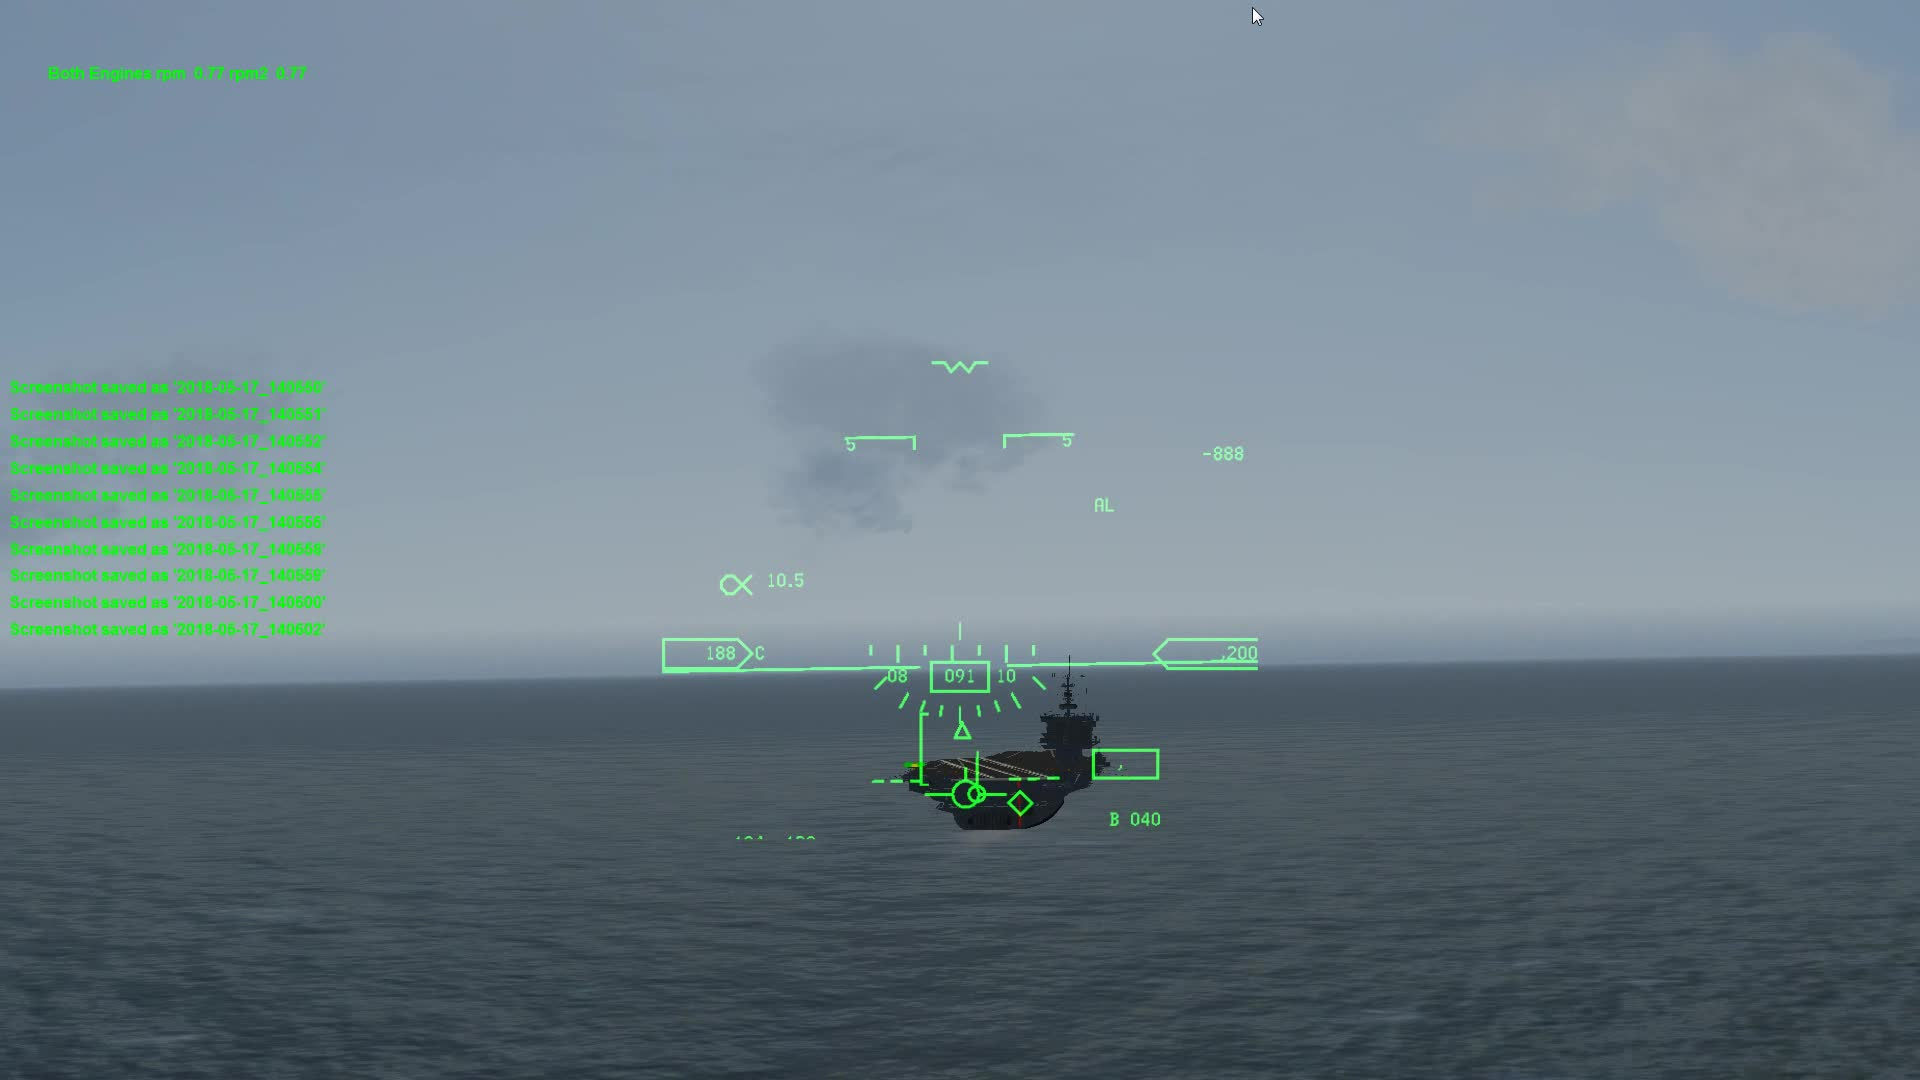speed vector: (922, 771, 1004, 816)
